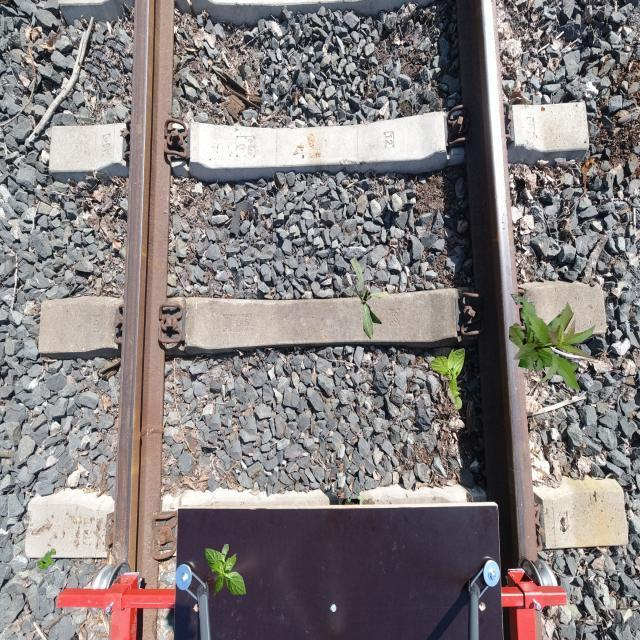Plant: (509, 294, 598, 392), (349, 257, 389, 340), (430, 347, 466, 410), (205, 543, 246, 596), (37, 548, 56, 572)
